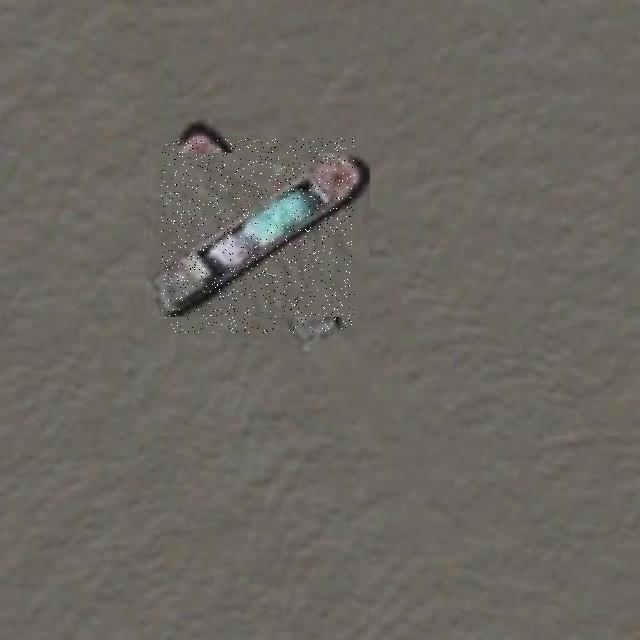boat: (161, 138, 355, 333)
